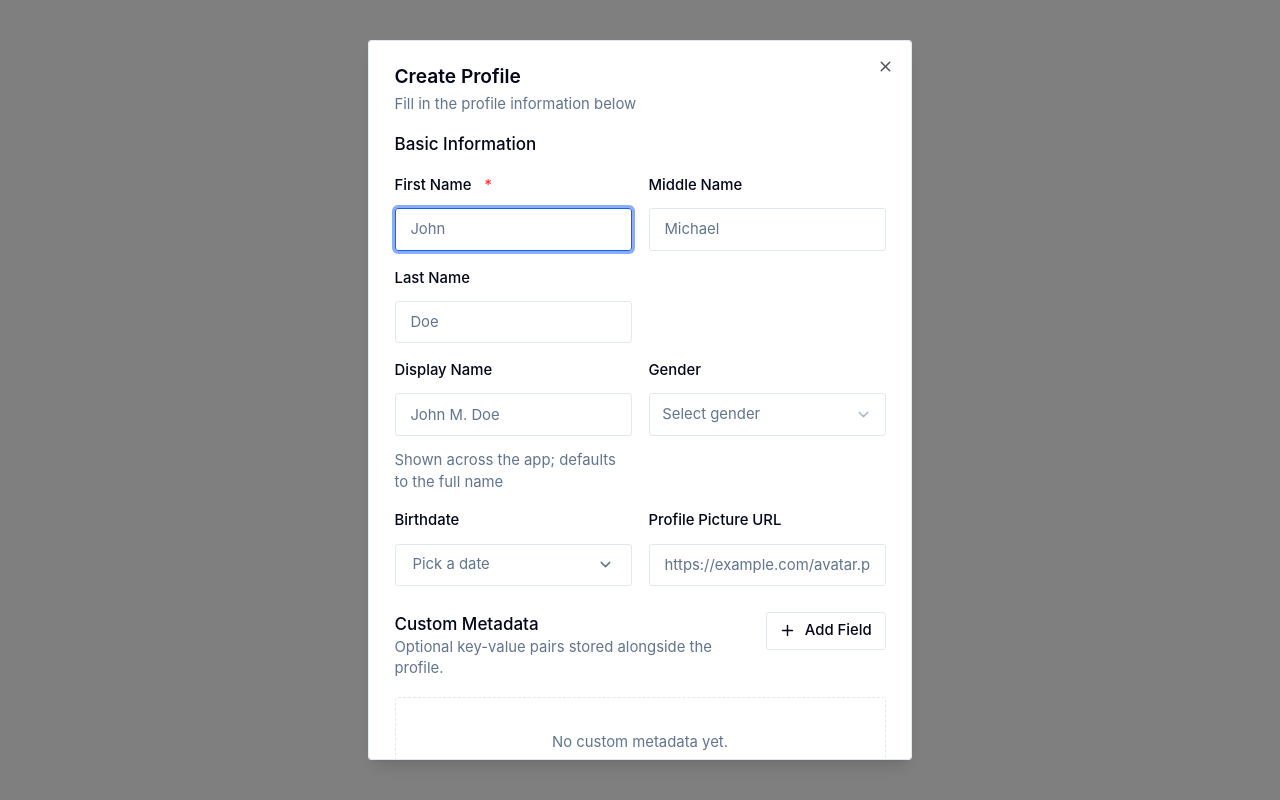
Test: ProfileFormDialog › selects a gender from the gender dropdown
Click the dropdown labelled "Select gender". click: [767, 415]
box: [648, 394, 886, 436]
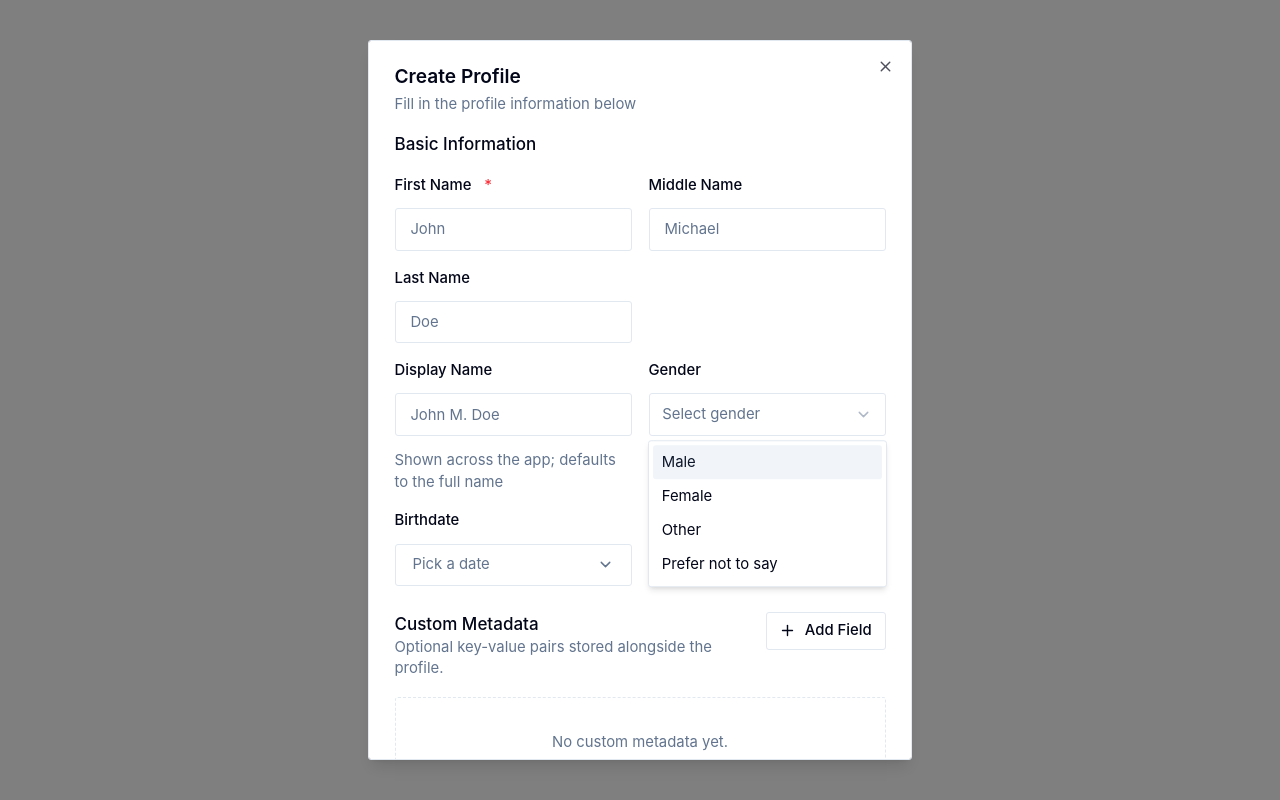
Click the option "Female". click: [687, 496]
box: [662, 487, 712, 505]
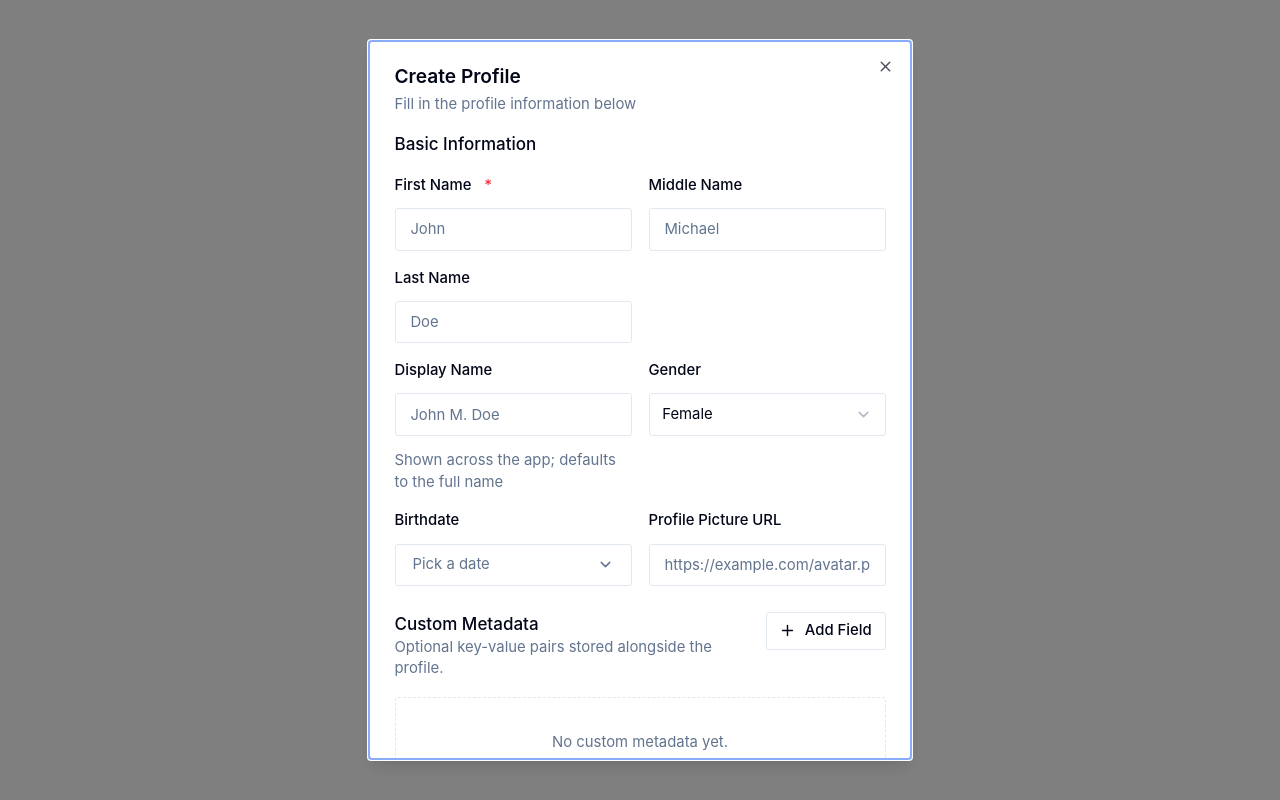
Now the dropdown named "gender" reads "Female", box [648, 394, 886, 436]
